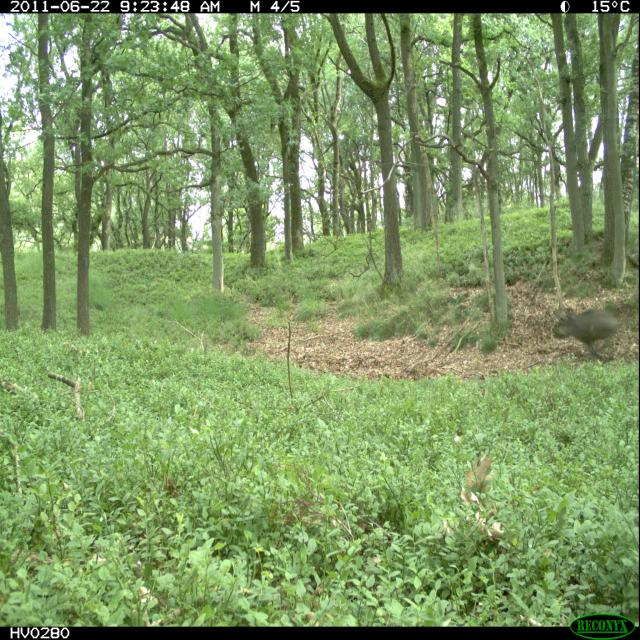boar: (542, 275, 640, 371)
